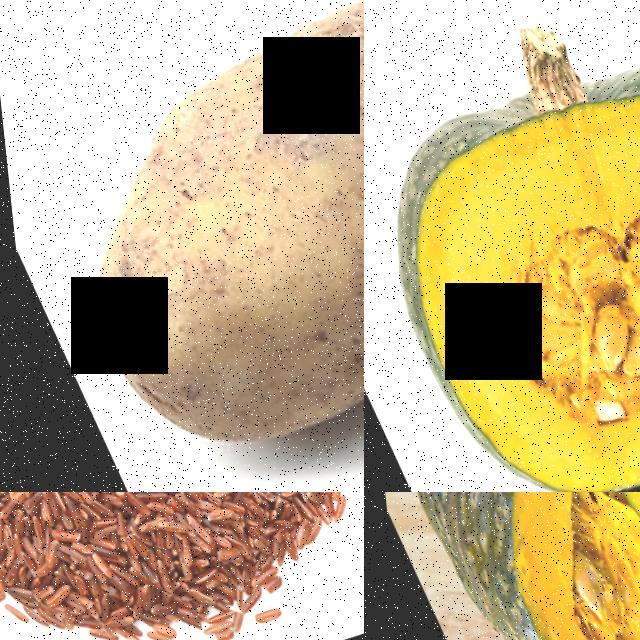potato: (0, 0, 364, 492)
pumpkin: (364, 0, 640, 492), (364, 492, 640, 640), (548, 492, 640, 640)
red rice: (0, 492, 364, 640)
